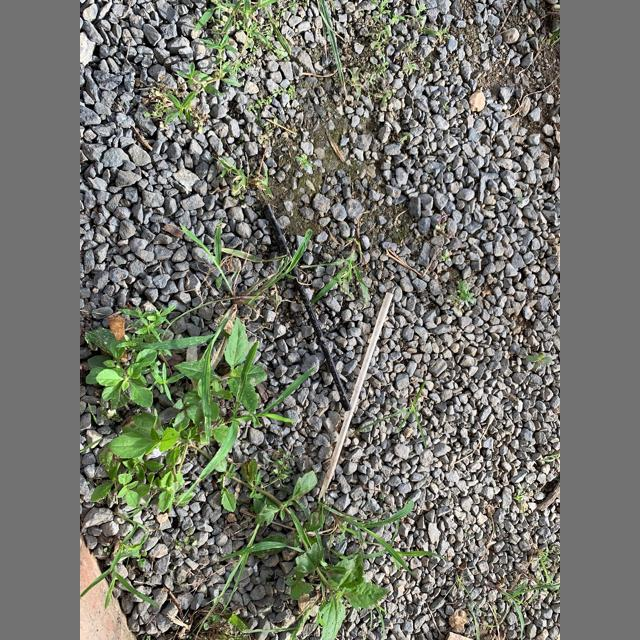litter: (263, 204, 352, 411), (319, 293, 394, 500), (109, 317, 127, 363)
